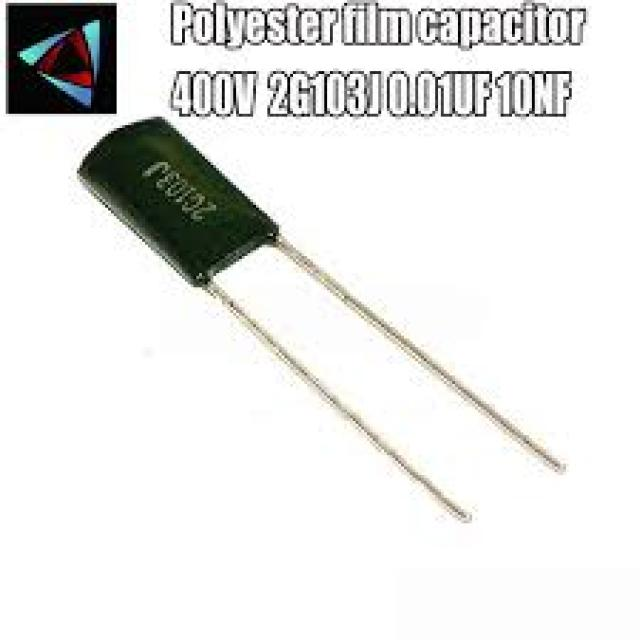Capacitor: (80, 119, 566, 526)
